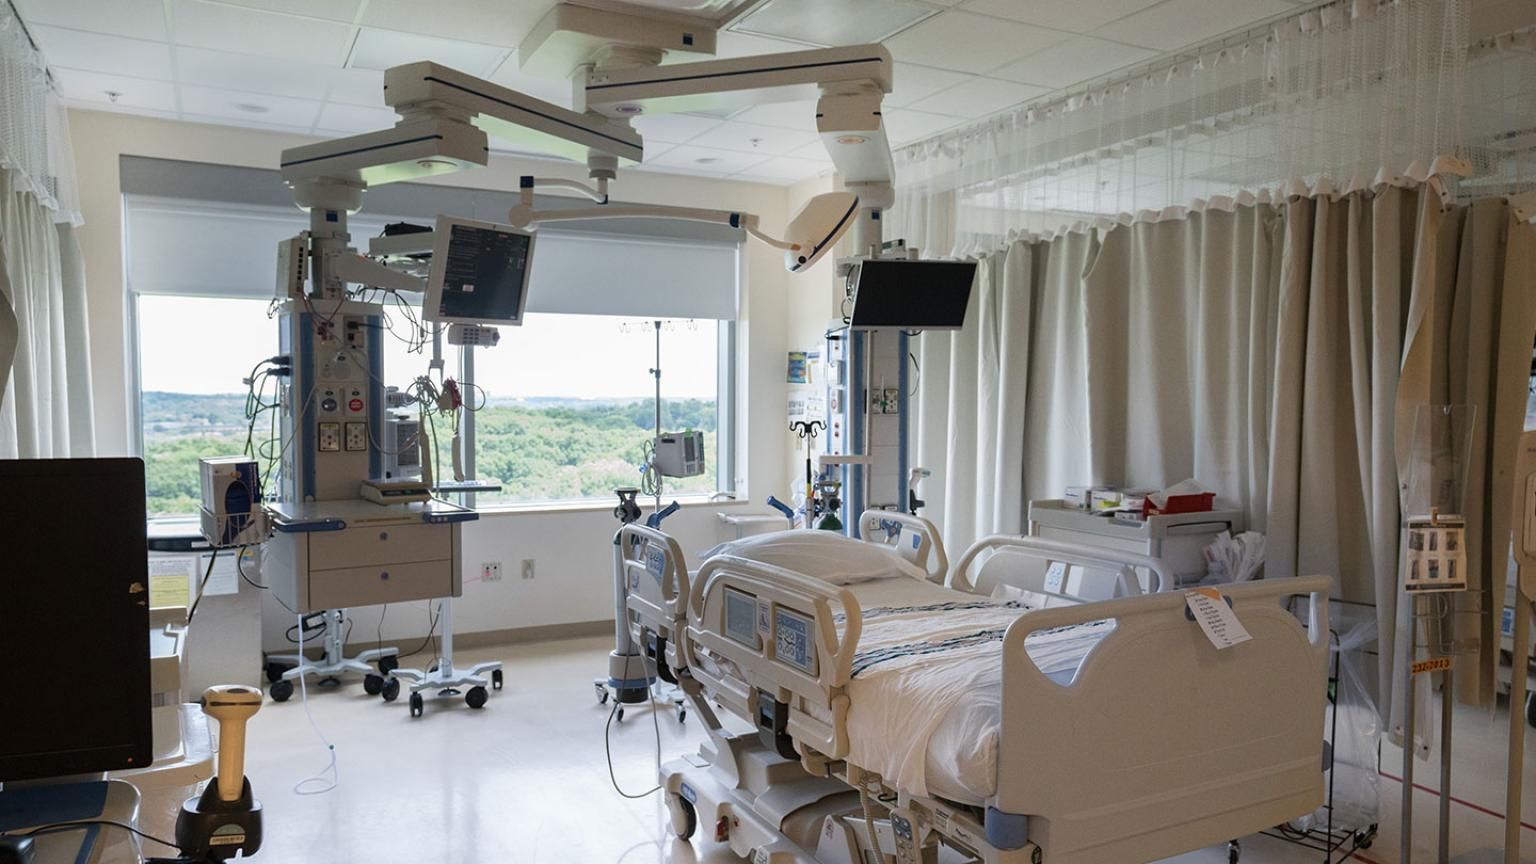TV: (421, 210, 539, 329), (852, 260, 978, 334)
bedrail: (692, 550, 866, 705), (951, 533, 1178, 609), (612, 522, 695, 623), (857, 507, 949, 583)
computer: (1, 459, 152, 775)
curtain: (850, 1, 1536, 728)
foot_board: (978, 572, 1335, 864)
handle: (379, 531, 388, 542), (380, 571, 388, 581)
hospital_bed: (606, 501, 1331, 864)
infusion_pump: (655, 429, 708, 480)
iv_pole: (788, 416, 828, 533), (647, 316, 666, 533)
mouse: (2, 836, 40, 864)
surgical_light: (777, 189, 859, 273)
